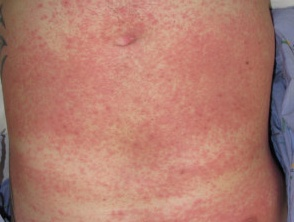SJS-TEN: (11, 0, 262, 204)
